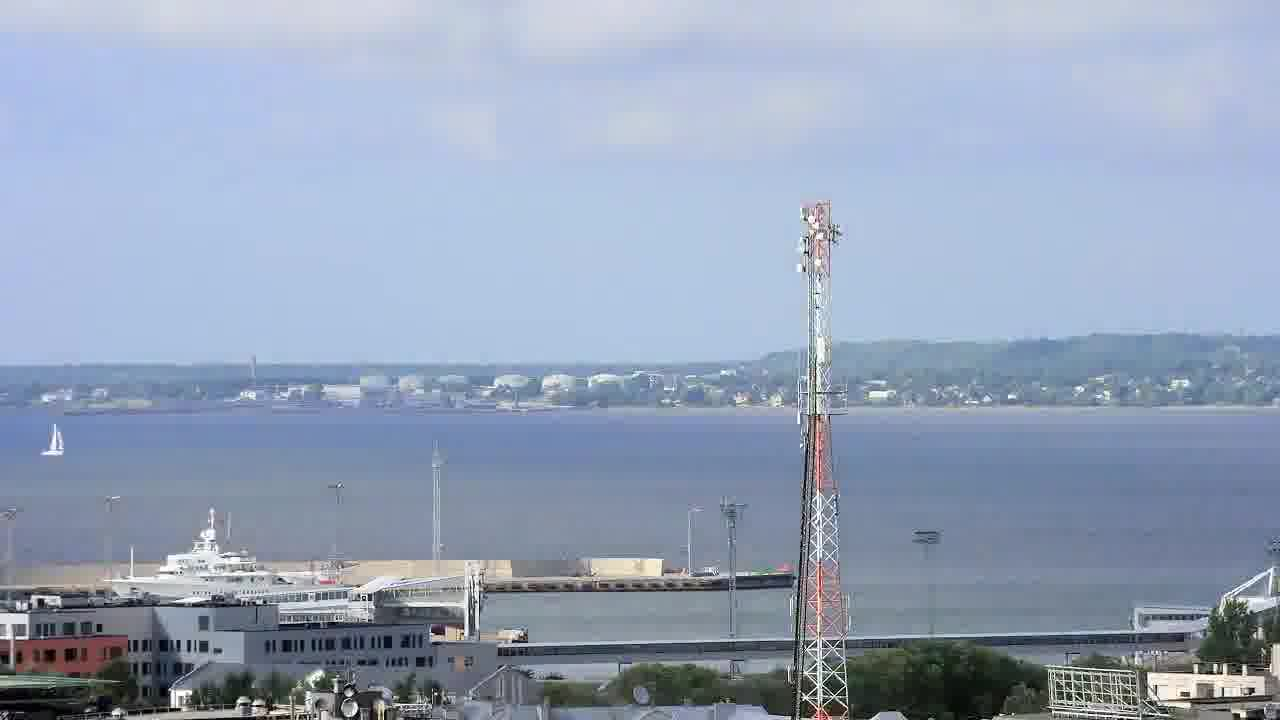type-2: (30, 417, 85, 463)
type-3: (98, 503, 361, 603)
